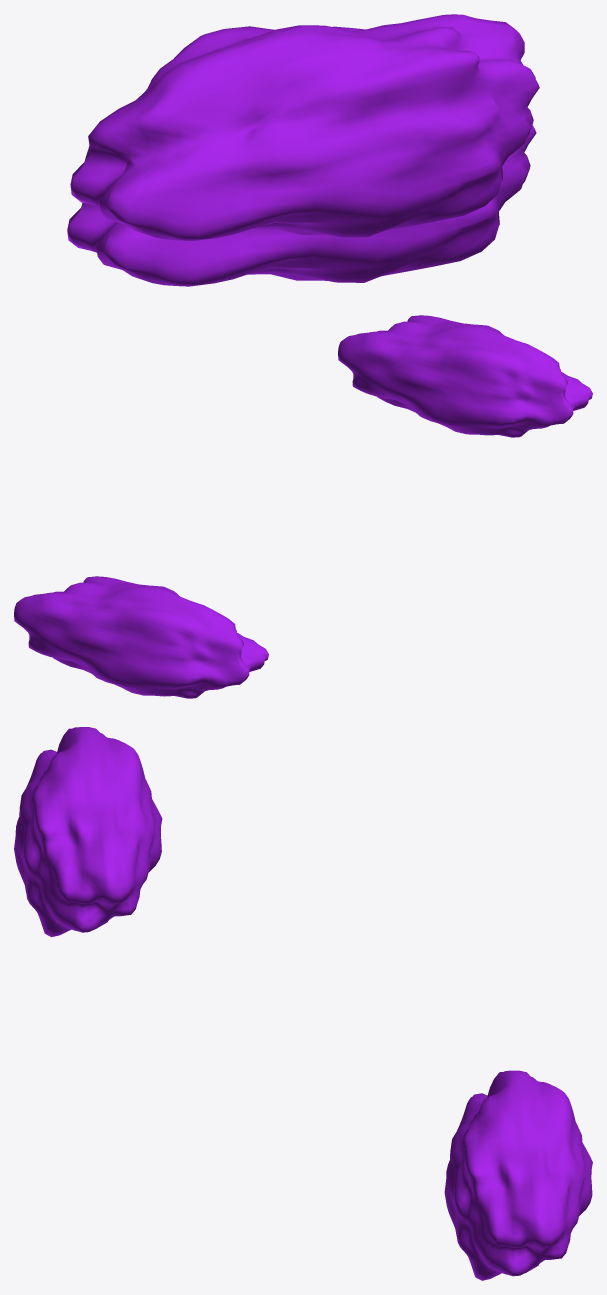
File: clouds.glb
3 views of the same model, one above another, from view 1: azimuth 30°, elevation 25°; view 2: azimuth 150°, elevation 25°; view 3: azimuth 270°, elevation 25° (orthographic). The views are drawn at different scales.
Parts seen in each view (by area): view 1: Cube; view 2: Cube; view 3: Cube.
Part boxes in pixels (bbox=[...]): Cube: bbox=[67, 14, 539, 286]; Cube: bbox=[14, 315, 592, 698]; Cube: bbox=[14, 727, 592, 1280].
Size of the model in its own units: 4 by 2.75 by 3.87.
